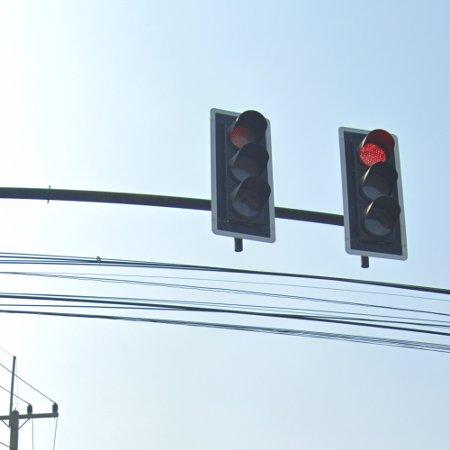traffic lights: (340, 127, 409, 267), (212, 109, 276, 251)
